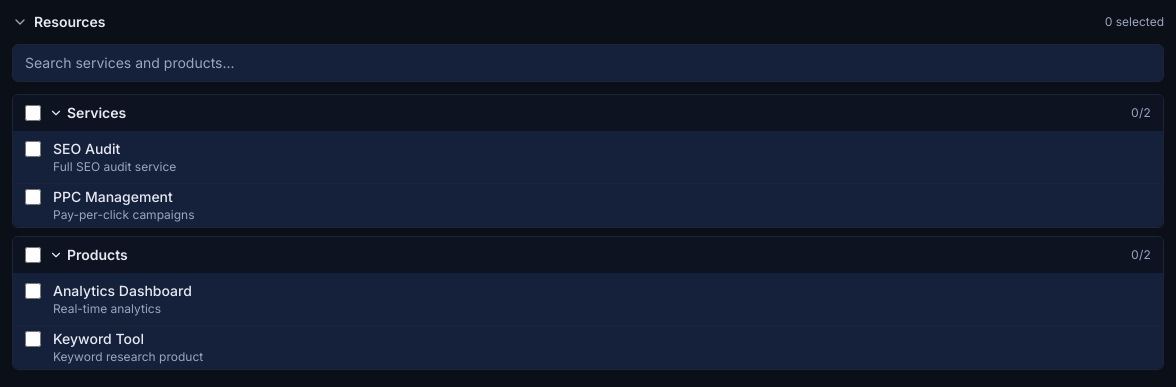
Test case: ResourceSelect › typing in search box filters rows by name
Type "SEO" into the search field at (588, 63), box [12,44,1164,82]
Wait 250 ms
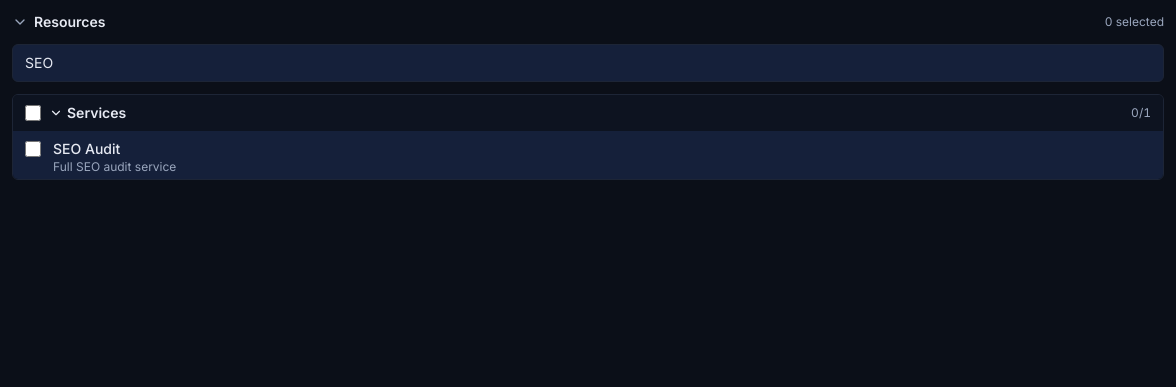
Check: the text "SEO Audit" is shown, box [53,140,120,157]
Check: the button "PPC Management" is gone
Check: the button "Analytics Dashboard" is gone
